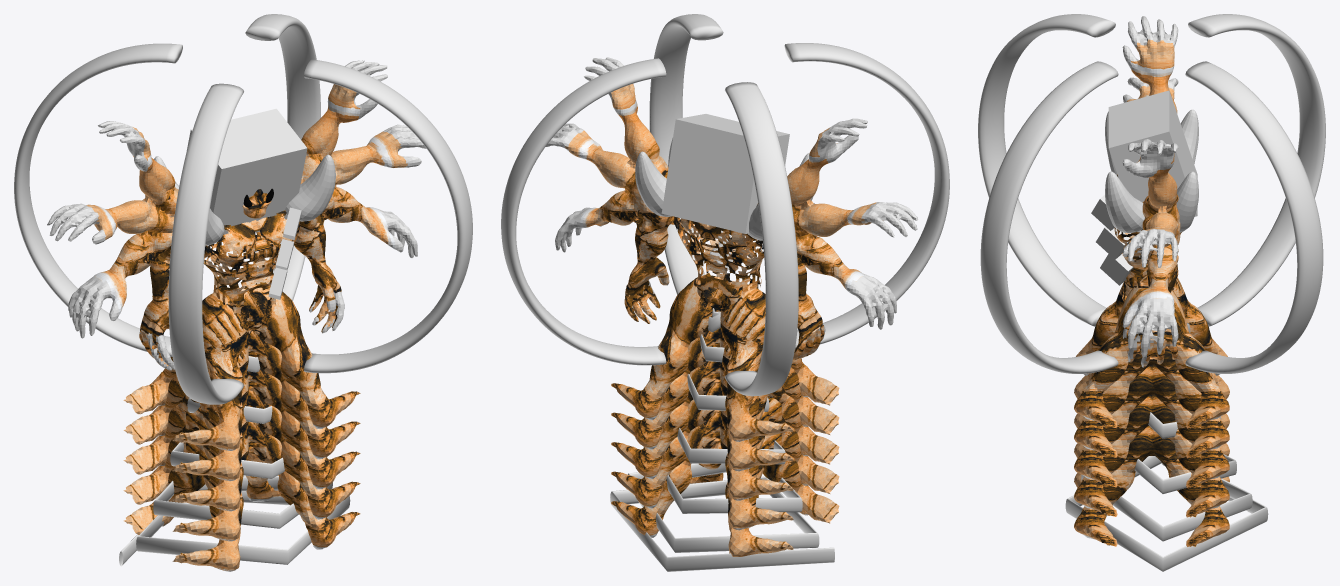
The model's file is remeshtest.fbx.
The picture shows the model from 3 angles, left to right: view 1: azimuth 30°, elevation 25°; view 2: azimuth 150°, elevation 25°; view 3: azimuth 270°, elevation 25°; orthographic projection. The views are drawn at different scales.
Parts seen in each view (by area): view 1: Body, Body.004, Body.003, Body.002, Cube, Spiral, Body.007, Body.005, Body.001, Body.006, Teeth.001, Cube.004; view 2: Body, Body.003, Body.004, Body.002, Spiral, Cube, Body.007, Body.005, Body.006, Body.001, Teeth.001; view 3: Body.003, Body.004, Body, Body.002, Spiral, Cube, Body.005, Body.007, Body.001, Body.006, Teeth.001, Cube.004.
Boxes of the visible parts, x1,y1,x2,y2 form: Body: (47,60,426,370); Body.004: (168,14,320,404); Body.003: (14,43,472,373); Body.002: (123,282,360,450); Cube: (186,108,307,241); Spiral: (119,356,350,566); Body.007: (123,422,360,571); Body.005: (123,368,360,511); Body.001: (123,331,360,481); Body.006: (123,390,360,541); Teeth.001: (154,154,335,245); Cube.004: (268,207,301,299); Body: (545,57,918,359); Body.003: (649,14,798,396); Body.004: (501,43,949,365); Body.002: (611,273,839,441); Spiral: (610,308,834,571); Cube: (661,114,789,233); Body.007: (611,412,839,556); Body.005: (611,361,839,500); Body.006: (611,382,839,530); Body.001: (611,327,839,471); Teeth.001: (635,138,813,240); Body.003: (980,14,1325,373); Body.004: (978,14,1323,373); Body: (1114,16,1181,367); Body.002: (1074,262,1229,428); Spiral: (1065,323,1268,571); Cube: (1108,90,1197,232); Body.005: (1074,365,1229,487); Body.007: (1074,426,1229,546); Body.001: (1074,348,1229,458); Body.006: (1074,395,1229,517); Teeth.001: (1105,109,1198,233); Cube.004: (1091,195,1133,285).
Bounding box in the file's own units: 260 × 314 × 207.
